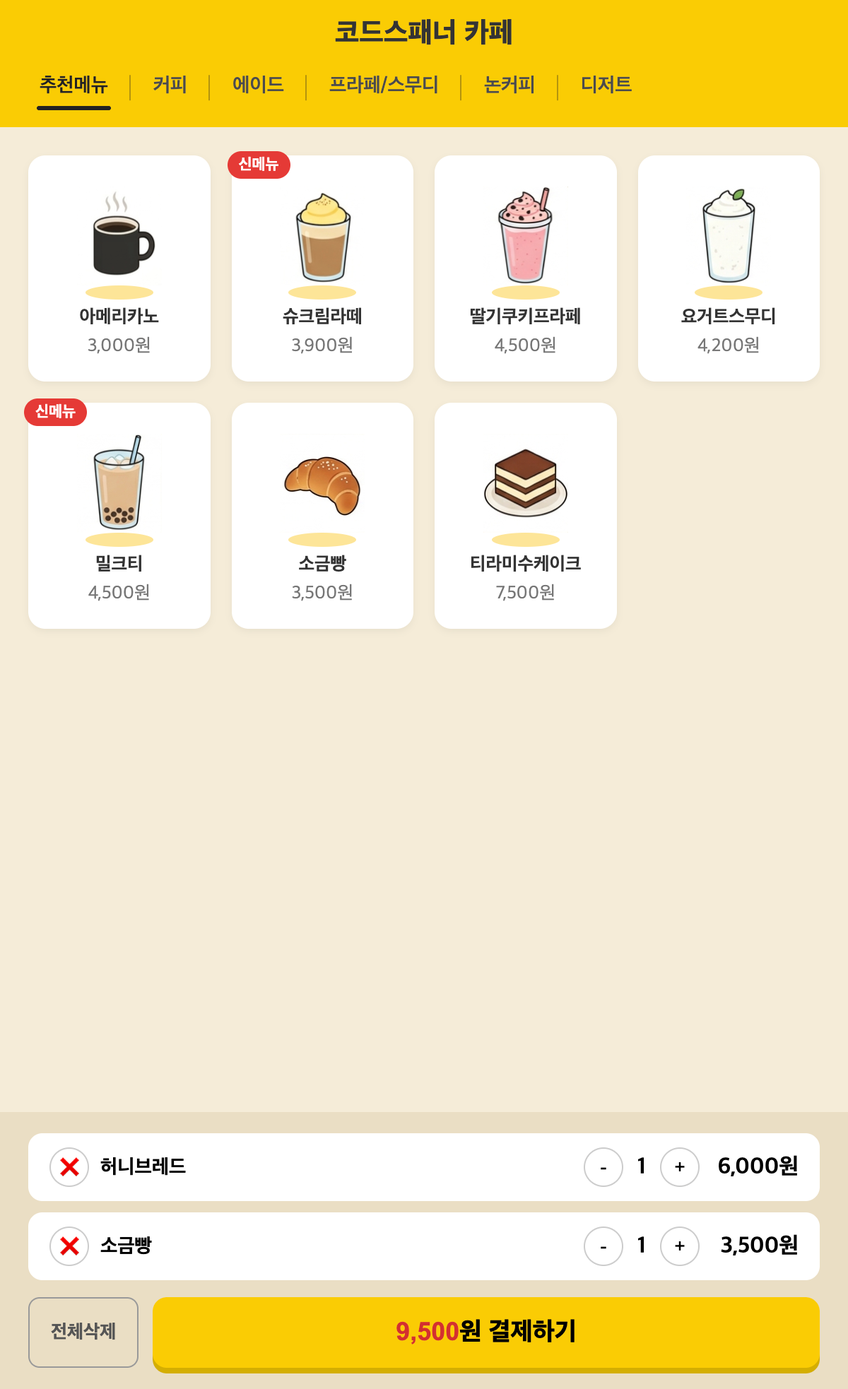action_button: (152, 1297, 820, 1374), (28, 1297, 139, 1368)
cart_item: (28, 1212, 820, 1280), (28, 1133, 820, 1201)
category_tab: (329, 75, 439, 95), (39, 75, 108, 96), (484, 75, 535, 96), (231, 75, 285, 94), (580, 75, 633, 94), (153, 75, 187, 96)
menu_back: (637, 155, 821, 382), (230, 401, 414, 628), (28, 402, 211, 629), (434, 155, 617, 382), (434, 402, 617, 629), (231, 155, 414, 382), (28, 155, 211, 382)
menu_name: (470, 307, 582, 326), (471, 554, 582, 573), (680, 307, 776, 325), (282, 306, 363, 327), (80, 307, 160, 326), (298, 554, 347, 573), (96, 555, 143, 573)
menu_price: (86, 583, 150, 602), (696, 336, 760, 354), (493, 337, 557, 355), (492, 584, 556, 602), (290, 583, 354, 601), (87, 336, 150, 354), (290, 336, 353, 354)
